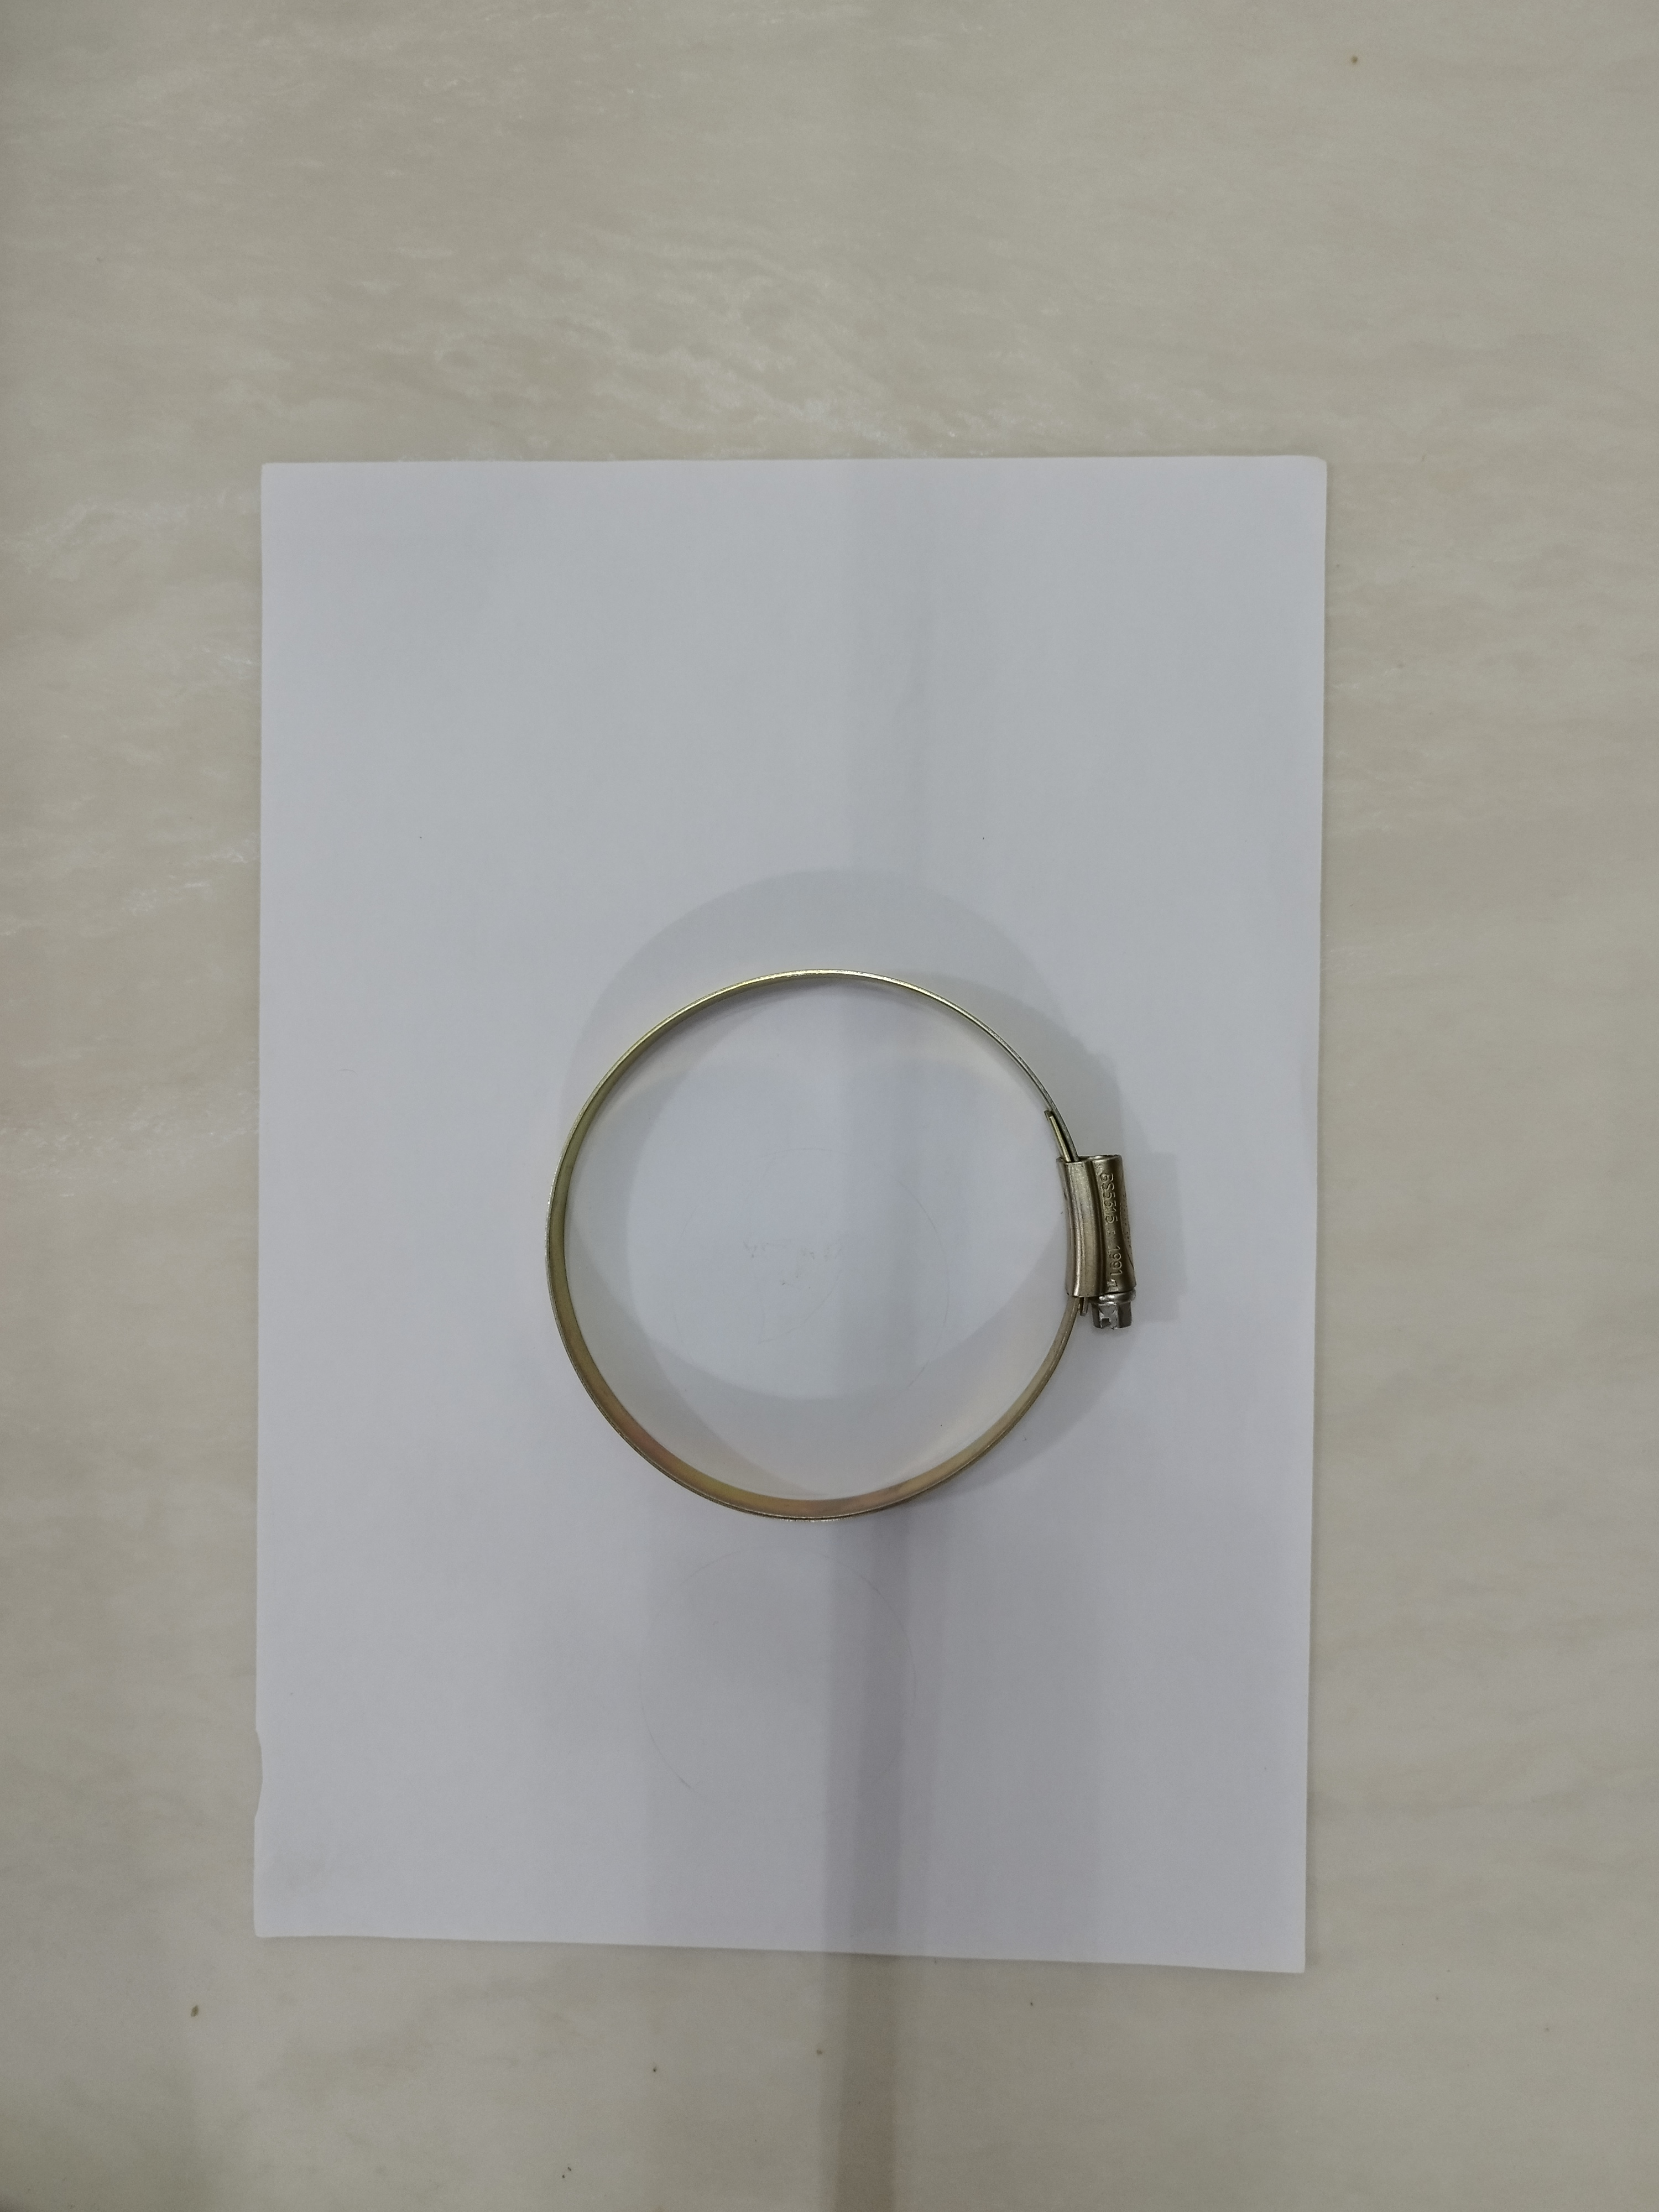ring_clamp: (528, 949, 1145, 1545)
